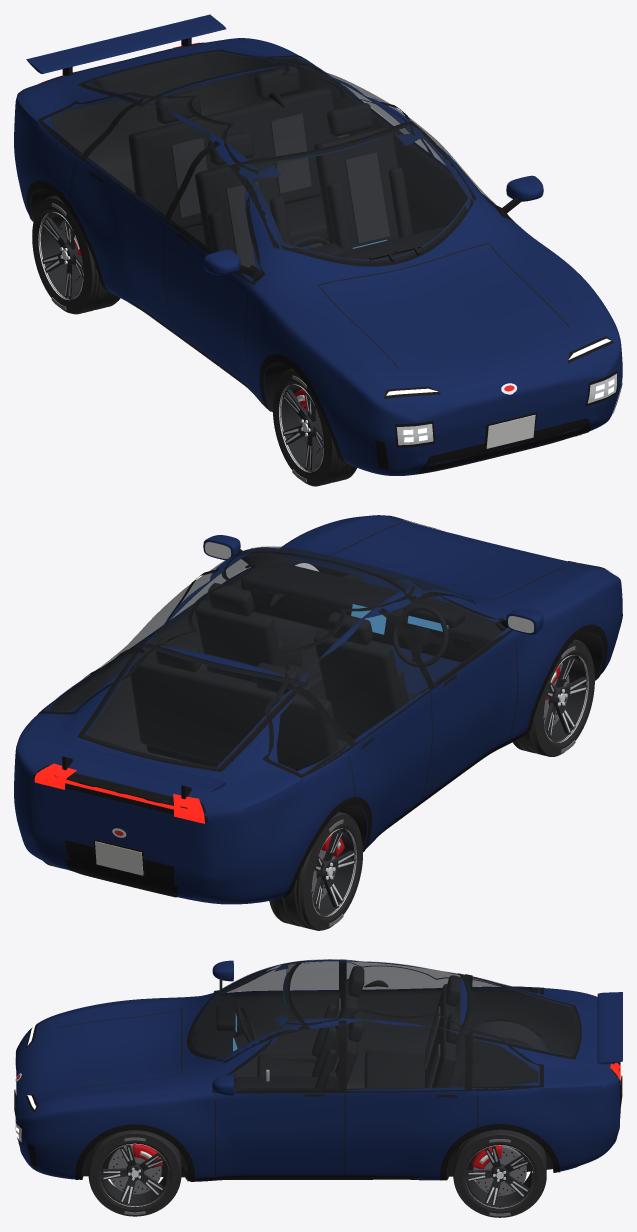
The model's file is macanev.glb.
3 views of the same model, one above another, from view 1: azimuth 30°, elevation 25°; view 2: azimuth 150°, elevation 25°; view 3: azimuth 270°, elevation 25° (orthographic). The views are drawn at different scales.
Parts seen in each view (by area): view 1: Body, Wheel_RR, Wheel_FR; view 2: Body, Wheel_RR, Wheel_FR; view 3: Body, Wheel_RL, Wheel_FL, Wheel_RR.
Boxes of the visible parts, x1,y1,x2,y2 form: Body: (14, 14, 622, 475); Wheel_RR: (32, 195, 120, 314); Wheel_FR: (272, 369, 356, 486); Body: (14, 515, 622, 904); Wheel_RR: (269, 811, 362, 930); Wheel_FR: (513, 639, 594, 756); Body: (14, 959, 622, 1181); Wheel_RL: (453, 1129, 546, 1217); Wheel_FL: (88, 1130, 181, 1216); Wheel_RR: (458, 1050, 538, 1086).
Bounding box in the file's own units: 2.36 × 1.64 × 4.82.
